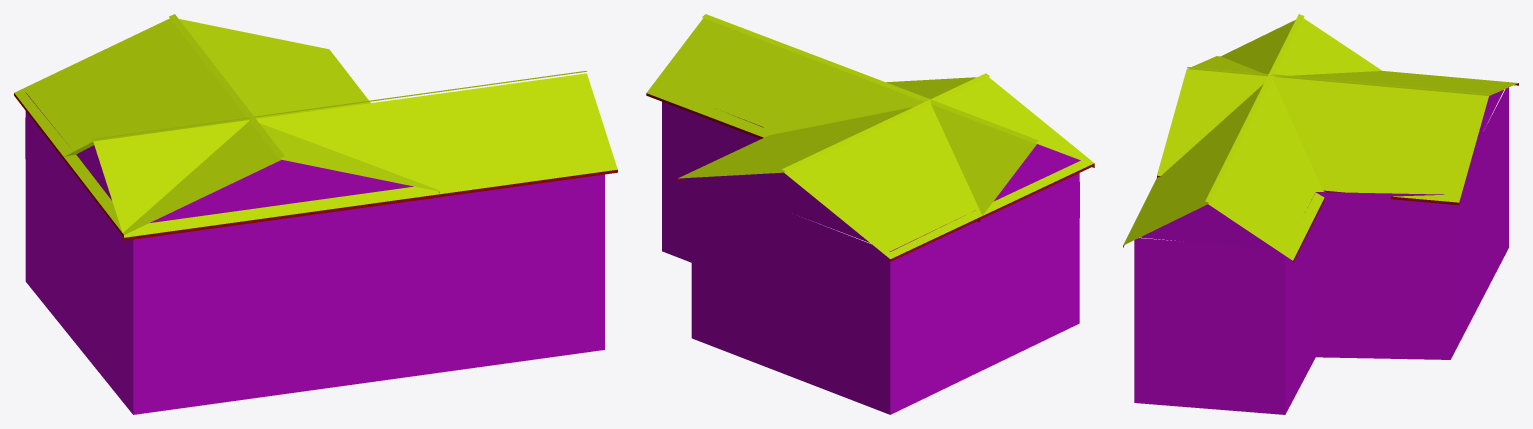
Rendered from bgj_292.glb.
The picture shows the model from 3 angles, left to right: view 1: azimuth 30°, elevation 25°; view 2: azimuth 150°, elevation 25°; view 3: azimuth 270°, elevation 25°; orthographic projection. The views are drawn at different scales.
Visible parts, largest first — view 1: bgj_292; view 2: bgj_292; view 3: bgj_292.
Part boxes in pixels (bbox=[...]): bgj_292: bbox=[14, 14, 617, 414]; bgj_292: bbox=[646, 14, 1094, 414]; bgj_292: bbox=[1123, 14, 1518, 414].
Bounding box in the file's own units: 19.89 × 9.69 × 16.43.
